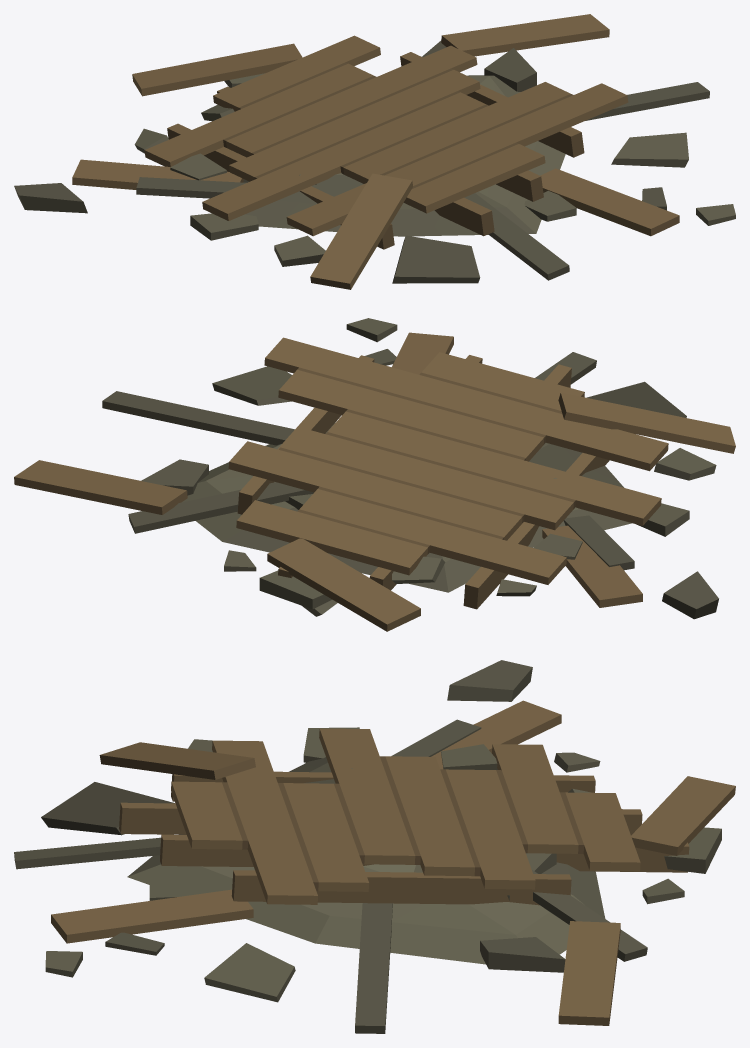
The model's file is AI_Env_Fallen_Floor.fbx.
The picture shows the model from 3 angles, top to bottom: view 1: azimuth 30°, elevation 25°; view 2: azimuth 150°, elevation 25°; view 3: azimuth 270°, elevation 25°; orthographic projection. The views are drawn at different scales.
Parts seen in each view (by area): view 1: AI_Env_Fallen_Floor; view 2: AI_Env_Fallen_Floor; view 3: AI_Env_Fallen_Floor.
Part boxes in pixels (x1=…): AI_Env_Fallen_Floor: x1=14, y1=14, x2=735, y2=289; AI_Env_Fallen_Floor: x1=14, y1=318, x2=735, y2=631; AI_Env_Fallen_Floor: x1=14, y1=660, x2=735, y2=1033.
Size of the model in its own units: 9.47 by 1.15 by 7.99.
